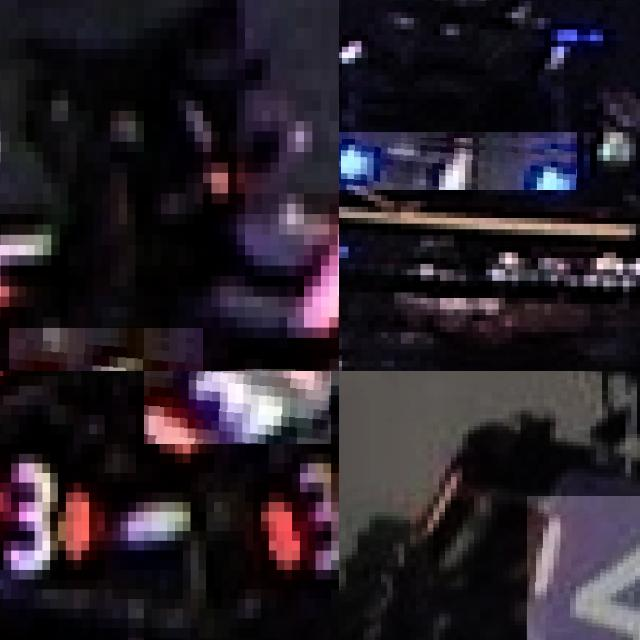B1: (339, 132, 577, 189)
R3: (0, 434, 104, 570), (143, 371, 331, 444), (261, 444, 339, 570)
R4: (526, 496, 640, 640), (9, 327, 202, 371)
